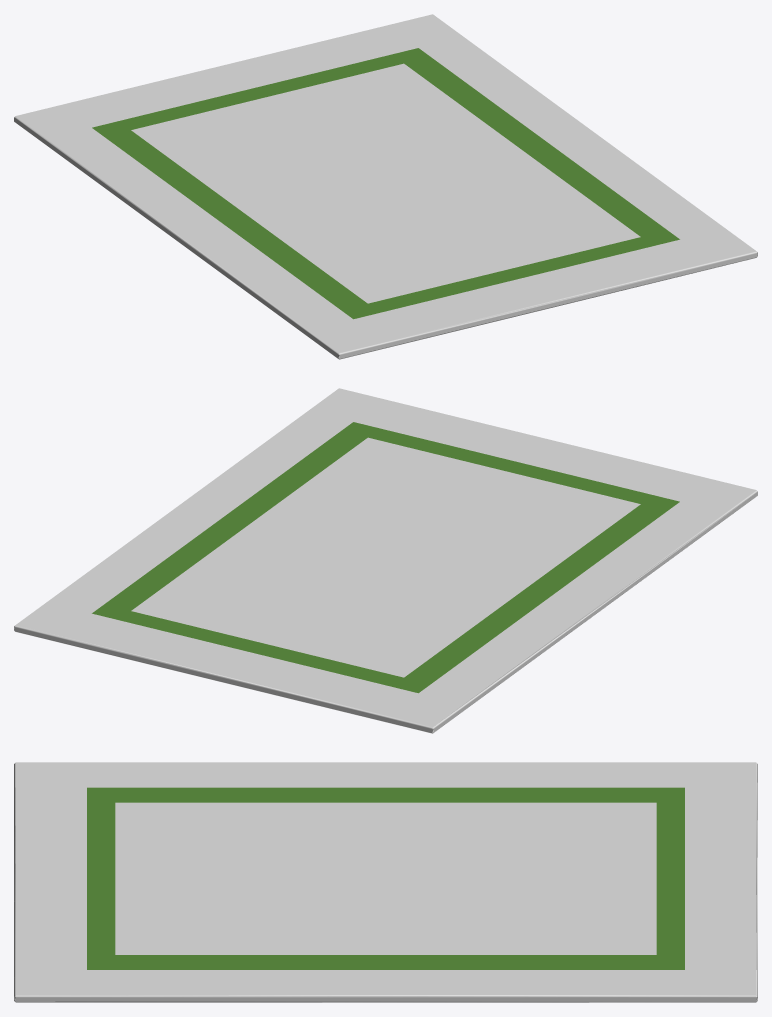
Rendered from karpet.obj.
3 renders of one model, top to bottom at view 1: azimuth 30°, elevation 25°; view 2: azimuth 150°, elevation 25°; view 3: azimuth 270°, elevation 25°, orthographic. The views are drawn at different scales.
Visible parts, largest first — view 1: Carpet.001_Cube.077; view 2: Carpet.001_Cube.077; view 3: Carpet.001_Cube.077.
Boxes of the visible parts, left/top/right/bottom form: Carpet.001_Cube.077: left=14, top=14, right=757, bottom=359; Carpet.001_Cube.077: left=14, top=388, right=757, bottom=733; Carpet.001_Cube.077: left=14, top=762, right=757, bottom=1002.
Size of the model in its own units: 2.9 by 0.0442 by 3.89.
